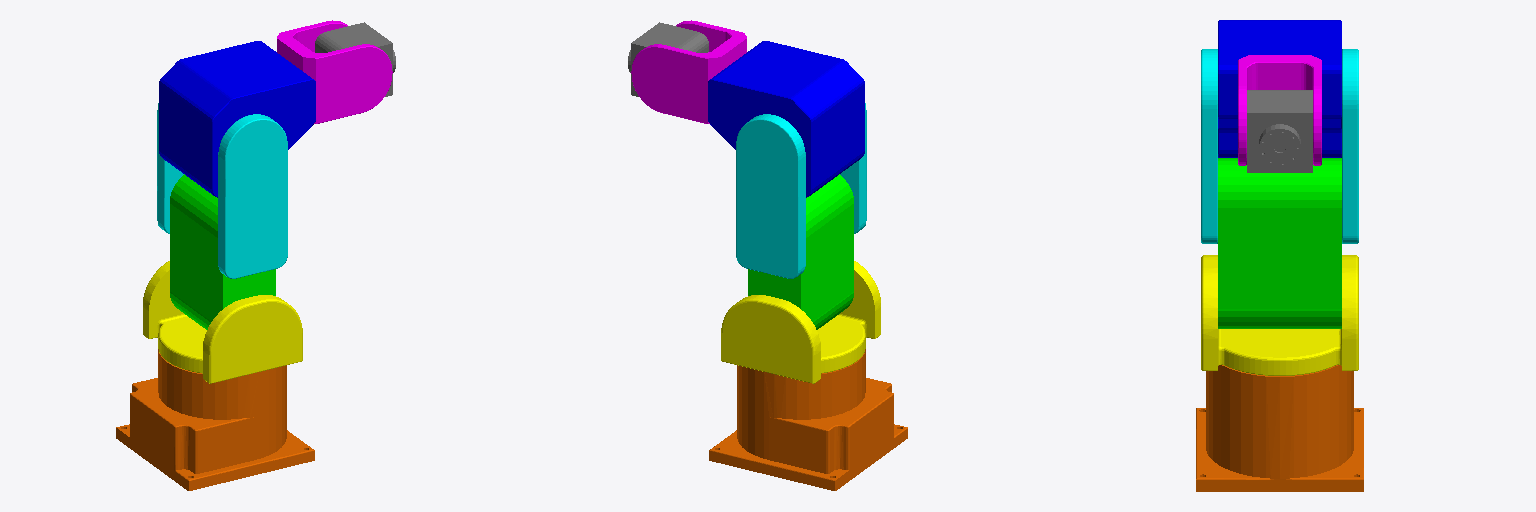
URDF robot description (baugruppe_arti4):
<?xml version='1.0' encoding='UTF-8'?>
<!-- This URDF was automatically created by SolidWorks to URDF Exporter! Originally created by [author] ([email redacted]) 
     Commit Version: 1.6.0-4-g7f85cfe  Build Version: 1.6.7995.38578
     For more information, please see http://wiki.ros.org/sw_urdf_exporter -->
<robot name="baugruppe_arti4">
  <link name="base_link">
    <inertial>
      <origin xyz="0.00435229897106417 1.19101823147447E-06 0.206310280142742" rpy="0 0 0"/>
      <mass value="118.32754627267"/>
      <inertia ixx="4.47689007324204" ixy="4.43639388222346E-05" ixz="-0.282702973308682" iyy="4.82074220348992" iyz="2.31671022438448E-05" izz="5.23809069840615"/>
    </inertial>
    <visual>
      <origin xyz="0 0 0" rpy="0 0 0"/>
      <geometry>
        <mesh filename="package://baugruppe_arti4/meshes/base_link.STL"/>
      </geometry>
      <material name="">
        <color rgba="0.909803921568627 0.443137254901961 0.0313725490196078 1"/>
      </material>
    </visual>
    <collision>
      <origin xyz="0 0 0" rpy="0 0 0"/>
      <geometry>
        <mesh filename="package://baugruppe_arti4/meshes/base_link.STL"/>
      </geometry>
    </collision>
  </link>
  <link name="achse1">
    <inertial>
      <origin xyz="6.93889390390723E-18 -0.11465842559516 -5.0349895881356E-17" rpy="0 0 0"/>
      <mass value="37.2990953823488"/>
      <inertia ixx="1.58478276326517" ixy="6.72682473106839E-17" ixz="2.56697693671266E-07" iyy="1.78904675337478" iyz="-3.48174136545842E-17" izz="0.790434634778931"/>
    </inertial>
    <visual>
      <origin xyz="0 0 0" rpy="0 0 0"/>
      <geometry>
        <mesh filename="package://baugruppe_arti4/meshes/achse1.STL"/>
      </geometry>
      <material name="">
        <color rgba="1 1 0 1"/>
      </material>
    </visual>
    <collision>
      <origin xyz="0 0 0" rpy="0 0 0"/>
      <geometry>
        <mesh filename="package://baugruppe_arti4/meshes/achse1.STL"/>
      </geometry>
    </collision>
  </link>
  <joint name="achse1_1" type="continuous">
    <origin xyz="0.0350000000000001 0 0.452" rpy="-1.5707963267949 0 0"/>
    <parent link="base_link"/>
    <child link="achse1"/>
    <axis xyz="0 1 0"/>
  </joint>
  <link name="achse2">
    <inertial>
      <origin xyz="-0.20000241917792 2.17580123362815E-09 1.95958403433266E-06" rpy="0 0 0"/>
      <mass value="50.198715025992"/>
      <inertia ixx="1.10727917154317" ixy="-2.41399858669304E-07" ixz="2.94734339886711E-11" iyy="1.40197024292102" iyz="-2.64709386633196E-07" izz="0.879798937506276"/>
    </inertial>
    <visual>
      <origin xyz="0 0 0" rpy="0 0 0"/>
      <geometry>
        <mesh filename="package://baugruppe_arti4/meshes/achse2.STL"/>
      </geometry>
      <material name="">
        <color rgba="0 1 0 1"/>
      </material>
    </visual>
    <collision>
      <origin xyz="0 0 0" rpy="0 0 0"/>
      <geometry>
        <mesh filename="package://baugruppe_arti4/meshes/achse2.STL"/>
      </geometry>
    </collision>
  </link>
  <joint name="achse2_1" type="continuous">
    <origin xyz="0 -0.2 0" rpy="-3.14159265358979 0 1.5707963267949"/>
    <parent link="achse1"/>
    <child link="achse2"/>
    <axis xyz="0 0 1"/>
  </joint>
  <link name="achse3">
    <inertial>
      <origin xyz="-0.191833083805588 -1.9595890479206E-06 -2.77555756156289E-17" rpy="0 0 0"/>
      <mass value="39.4811032739565"/>
      <inertia ixx="1.95192669647927" ixy="-1.73409535332591E-16" ixz="-2.12396957990674E-16" iyy="1.72974079833023" iyz="2.16840434497101E-16" izz="3.29933055799716"/>
    </inertial>
    <visual>
      <origin xyz="0 0 0" rpy="0 0 0"/>
      <geometry>
        <mesh filename="package://baugruppe_arti4/meshes/achse3.STL"/>
      </geometry>
      <material name="">
        <color rgba="0 1 1 1"/>
      </material>
    </visual>
    <collision>
      <origin xyz="0 0 0" rpy="0 0 0"/>
      <geometry>
        <mesh filename="package://baugruppe_arti4/meshes/achse3.STL"/>
      </geometry>
    </collision>
  </link>
  <joint name="achse3_1" type="continuous">
    <origin xyz="-0.400000000000001 0 0" rpy="-1.5707963267949 0 0"/>
    <parent link="achse2"/>
    <child link="achse3"/>
    <axis xyz="0 1 0"/>
  </joint>
  <link name="achse4">
    <inertial>
      <origin xyz="0.057535307950419 0.0411539935888574 1.95958904790402E-06" rpy="0 0 0"/>
      <mass value="75.8024522154093"/>
      <inertia ixx="2.44855643577337" ixy="-0.362721911973878" ixz="8.23601090278812E-18" iyy="2.69457704418384" iyz="1.68922518611178E-16" izz="2.71260798797946"/>
    </inertial>
    <visual>
      <origin xyz="0 0 0" rpy="0 0 0"/>
      <geometry>
        <mesh filename="package://baugruppe_arti4/meshes/achse4.STL"/>
      </geometry>
      <material name="">
        <color rgba="0 0 1 1"/>
      </material>
    </visual>
    <collision>
      <origin xyz="0 0 0" rpy="0 0 0"/>
      <geometry>
        <mesh filename="package://baugruppe_arti4/meshes/achse4.STL"/>
      </geometry>
    </collision>
  </link>
  <joint name="achse4_1" type="continuous">
    <origin xyz="-0.399999999999999 0 0" rpy="1.5707963267949 -1.5707963267949 0"/>
    <parent link="achse3"/>
    <child link="achse4"/>
    <axis xyz="0 0 1"/>
  </joint>
  <link name="achse5">
    <inertial>
      <origin xyz="-1.80193934313788E-05 0.000118318329248121 0.164175255546401" rpy="0 0 0"/>
      <mass value="12.062537692943"/>
      <inertia ixx="0.322800598748907" ixy="-2.61435617459413E-08" ixz="-3.40682810523782E-05" iyy="0.258394199817323" iyz="0.000121923317188701" izz="0.223448646036243"/>
    </inertial>
    <visual>
      <origin xyz="0 0 0" rpy="0 0 0"/>
      <geometry>
        <mesh filename="package://baugruppe_arti4/meshes/achse5.STL"/>
      </geometry>
      <material name="">
        <color rgba="1 0 1 1"/>
      </material>
    </visual>
    <collision>
      <origin xyz="0 0 0" rpy="0 0 0"/>
      <geometry>
        <mesh filename="package://baugruppe_arti4/meshes/achse5.STL"/>
      </geometry>
    </collision>
  </link>
  <joint name="achse5_1" type="continuous">
    <origin xyz="0.318896988774263 0.141654099261087 0" rpy="-1.5707963267949 0 -1.5707963267949"/>
    <parent link="achse4"/>
    <child link="achse5"/>
    <axis xyz="0 0 1"/>
  </joint>
  <link name="achse6">
    <inertial>
      <origin xyz="-0.0103023778101935 -1.48497864755232E-06 6.66133814775094E-16" rpy="0 0 0"/>
      <mass value="11.7787579135722"/>
      <inertia ixx="0.110992482917872" ixy="9.37468004942909E-18" ixz="1.78551536412936E-18" iyy="0.127560903807858" iyz="3.58438038934541E-18" izz="0.121824672671966"/>
    </inertial>
    <visual>
      <origin xyz="0 0 0" rpy="0 0 0"/>
      <geometry>
        <mesh filename="package://baugruppe_arti4/meshes/achse6.STL"/>
      </geometry>
      <material name="">
        <color rgba="0.501960784313725 0.501960784313725 0.501960784313725 1"/>
      </material>
    </visual>
    <collision>
      <origin xyz="0 0 0" rpy="0 0 0"/>
      <geometry>
        <mesh filename="package://baugruppe_arti4/meshes/achse6.STL"/>
      </geometry>
    </collision>
  </link>
  <joint name="achse6_1" type="continuous">
    <origin xyz="0 0 0.305281304512374" rpy="0 1.5707963267949 0"/>
    <parent link="achse5"/>
    <child link="achse6"/>
    <axis xyz="0 1 0"/>
  </joint>
</robot>

--- What the picture shows (computed from the rendered views, not written in the file) ---
Views: 3 orthographic renders of the robot side by side, from view 1: azimuth 30°, elevation 25°; view 2: azimuth 150°, elevation 25°; view 3: azimuth 270°, elevation 25°.
Robot: baugruppe_arti4 — 7 links, 6 joints (6 continuous); root link base_link; default pose: all joints at 0.
Links seen in each view (by area): view 1: base_link, achse4, achse3, achse1, achse2, achse5, achse6; view 2: base_link, achse4, achse3, achse1, achse2, achse5, achse6; view 3: achse2, base_link, achse1, achse4, achse3, achse6, achse5.
Link boxes in pixels (x1=…): base_link: x1=116, y1=349, x2=314, y2=490; achse4: x1=159, y1=41, x2=315, y2=197; achse3: x1=157, y1=103, x2=287, y2=278; achse1: x1=143, y1=261, x2=302, y2=383; achse2: x1=170, y1=174, x2=275, y2=329; achse5: x1=277, y1=20, x2=392, y2=123; achse6: x1=315, y1=22, x2=395, y2=96; base_link: x1=709, y1=349, x2=907, y2=490; achse4: x1=708, y1=41, x2=864, y2=197; achse3: x1=736, y1=103, x2=866, y2=278; achse1: x1=721, y1=261, x2=880, y2=383; achse2: x1=748, y1=174, x2=853, y2=329; achse5: x1=631, y1=20, x2=746, y2=123; achse6: x1=628, y1=22, x2=708, y2=96; achse2: x1=1218, y1=158, x2=1341, y2=328; base_link: x1=1196, y1=365, x2=1363, y2=491; achse1: x1=1201, y1=255, x2=1358, y2=375; achse4: x1=1218, y1=20, x2=1341, y2=157; achse3: x1=1201, y1=49, x2=1358, y2=243; achse6: x1=1247, y1=90, x2=1312, y2=172; achse5: x1=1238, y1=55, x2=1321, y2=165.
Size in the robot's own frame: 1.12 by 0.6 by 1.74 metres.
7 mesh visuals loaded from 7 distinct referenced files (7 binary STL).